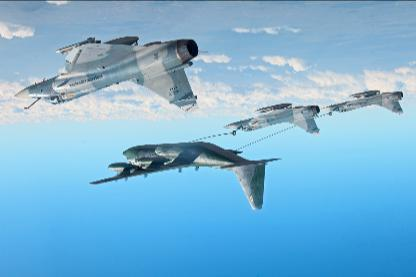Be200: (90, 142, 283, 210)
Mirage2000: (11, 36, 209, 112), (222, 103, 320, 135), (320, 90, 404, 114)
